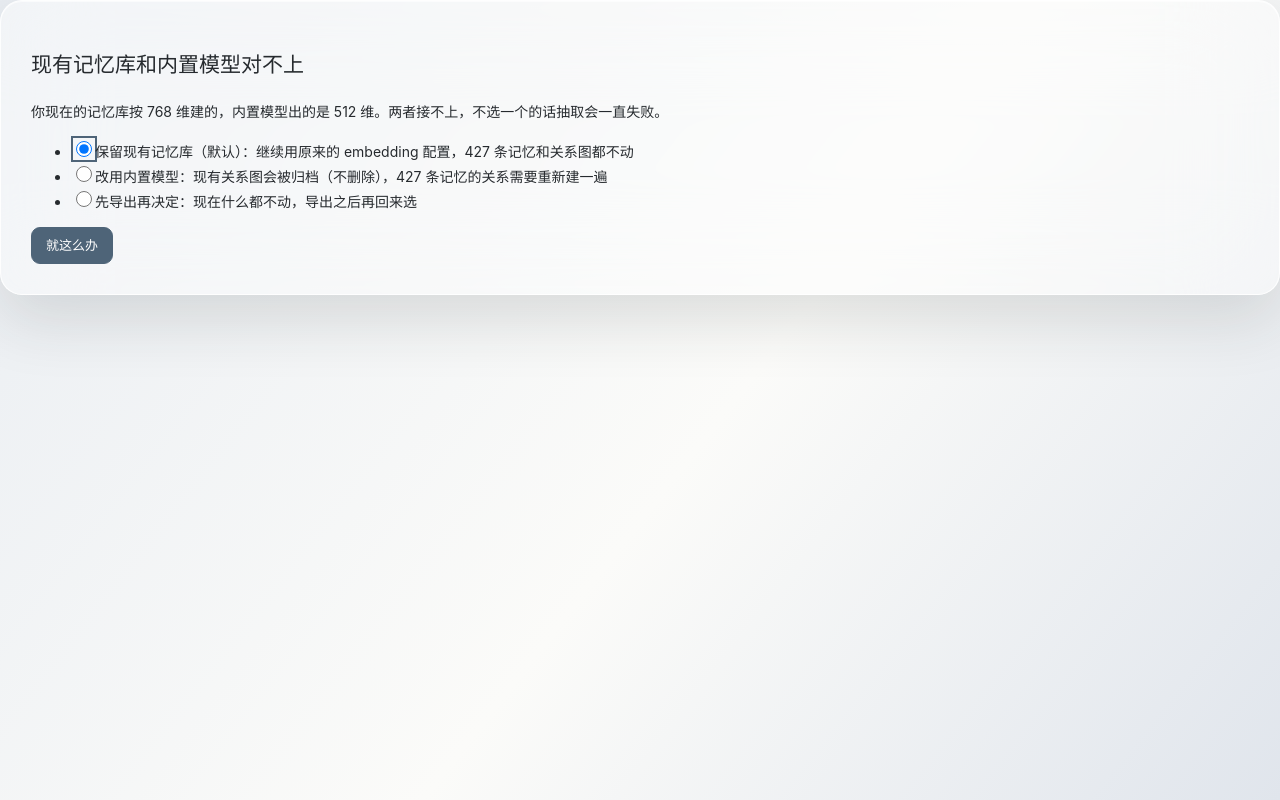
Scenario: GraphWidthPrompt › 先导出再决定 › 把备份真正落在哪里原样告诉用户
Click the radio button labelled "先导出再决定：现在什么都不动，导出之后再回来选" at (84, 199), box top-left (76, 191), bottom-right (92, 207)
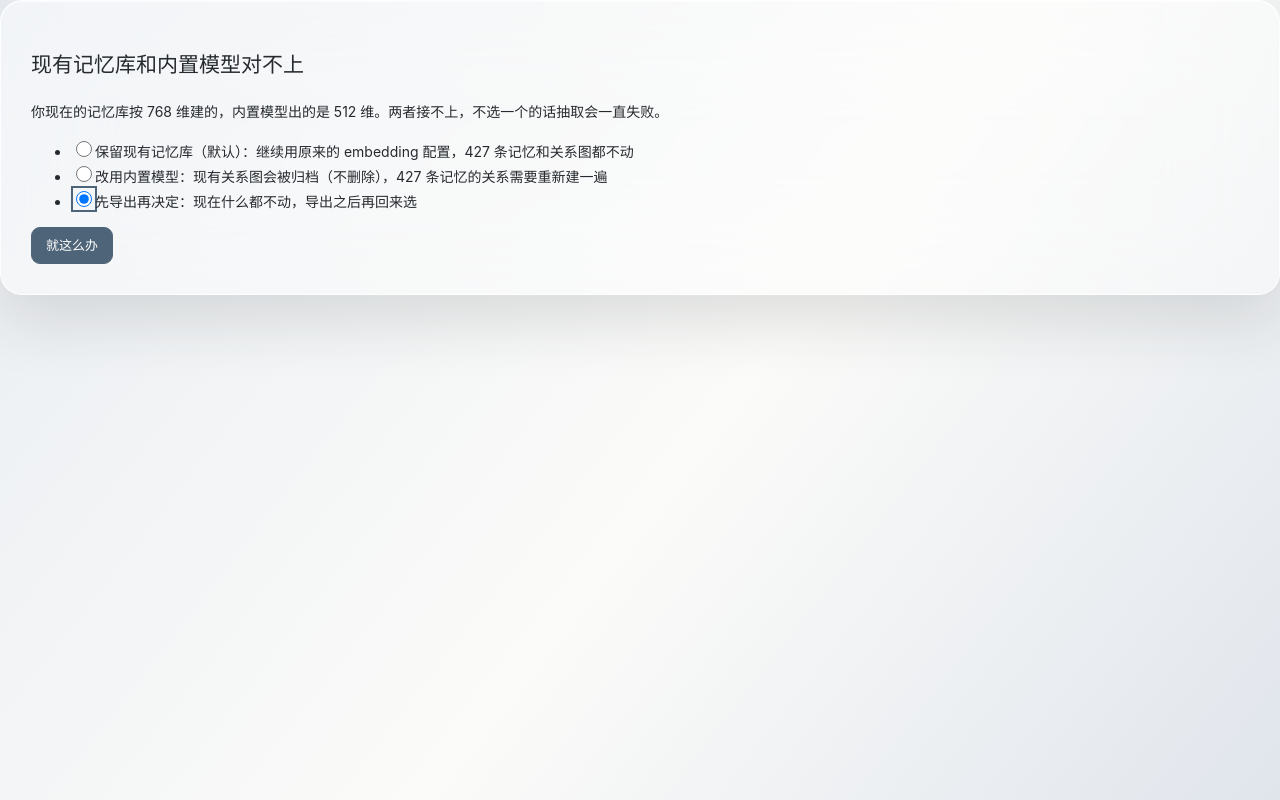
Click the button "就这么办" at (72, 246), box top-left (31, 227), bottom-right (113, 264)
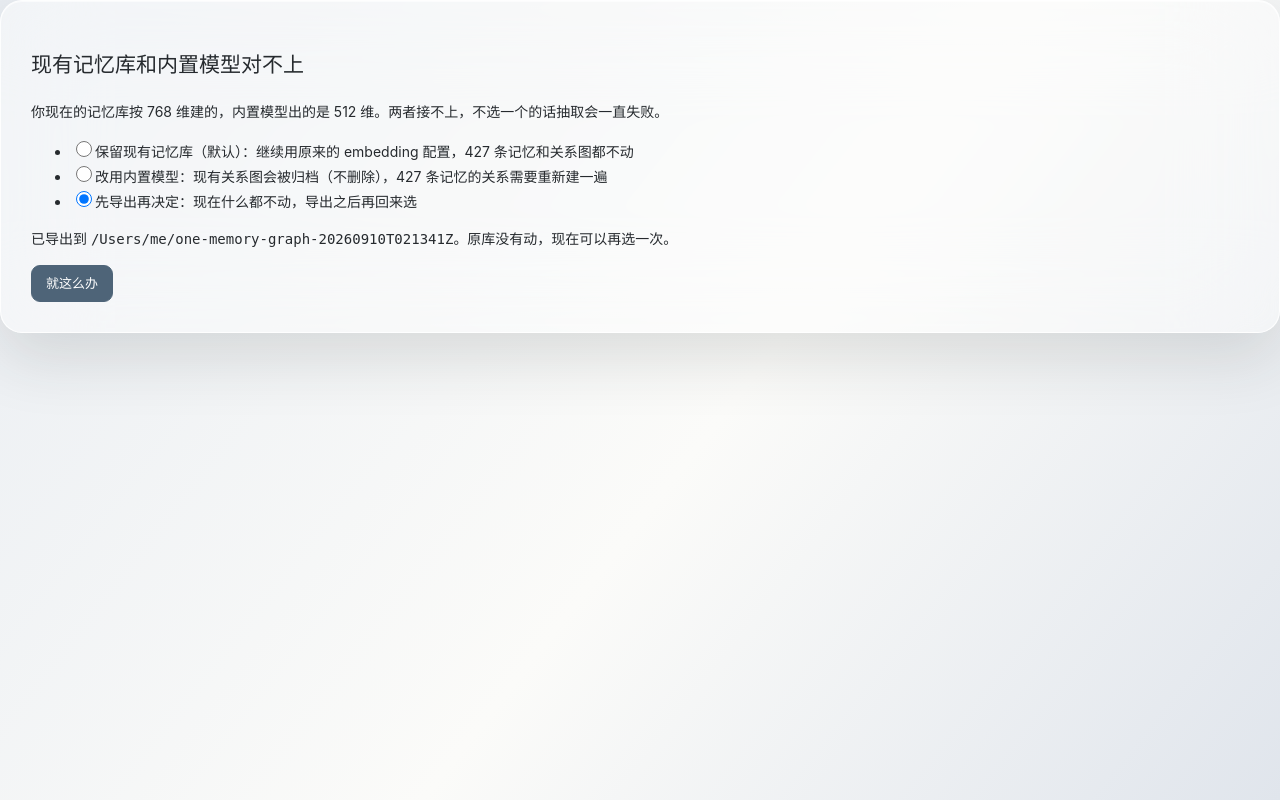
Now the text "/Users/me/one-memory-graph-20260910T021341Z" is shown, box top-left (91, 231), bottom-right (453, 247)
